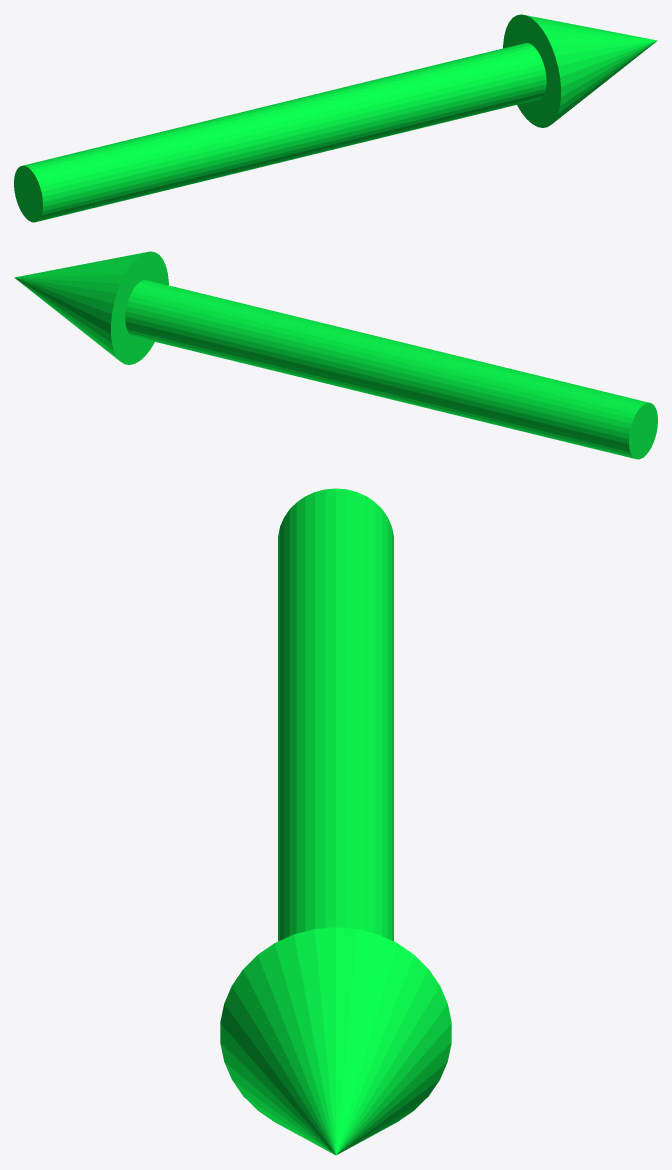
Rendered from vector.fbx.
3 renders of one model, top to bottom at view 1: azimuth 30°, elevation 25°; view 2: azimuth 150°, elevation 25°; view 3: azimuth 270°, elevation 25°, orthographic. The views are drawn at different scales.
Visible parts, largest first — view 1: default; view 2: default; view 3: default.
Part boxes in pixels (box(x1,y1,x2,y2)): default: box(14, 14, 657, 222); default: box(14, 251, 657, 459); default: box(220, 488, 451, 1155).
Bounding box in the file's own units: 0.00125 × 0.0002 × 0.000199.
